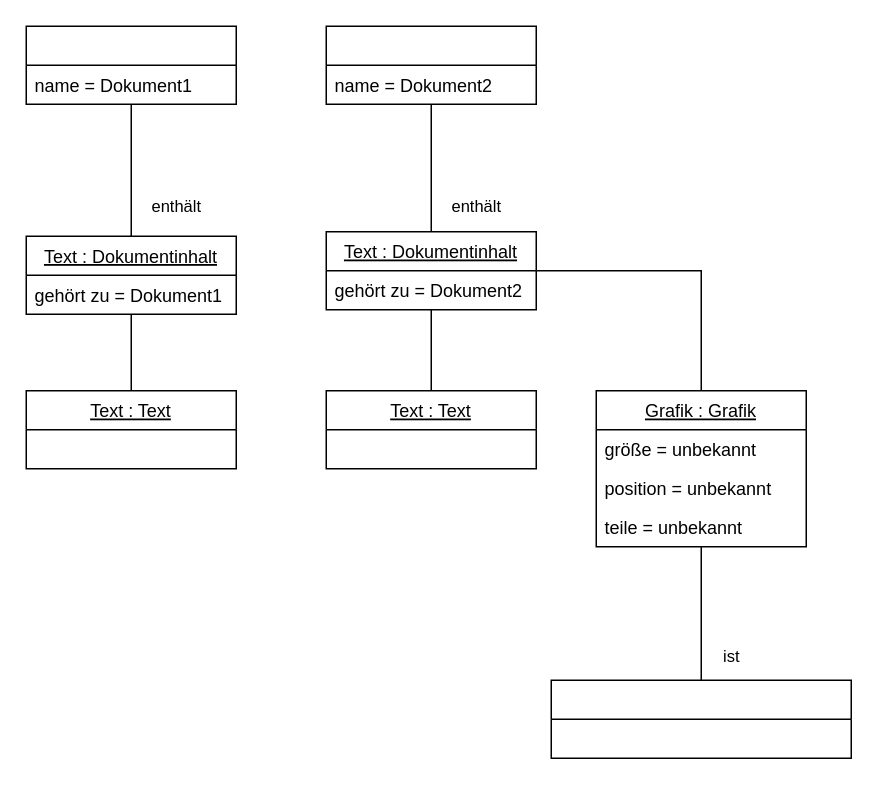
Some shapes in this 878 by 785 pixel diagram are drawn without their labels. The box of each missing label's shape, as (x1, y1, x2, y2) in pixels:
Dokument1 : Dokument: (25, 25, 236, 104)
Dokument2 : Dokument: (325, 25, 536, 104)
Grafik : ZusammengesetzteGrafik: (550, 679, 851, 758)
